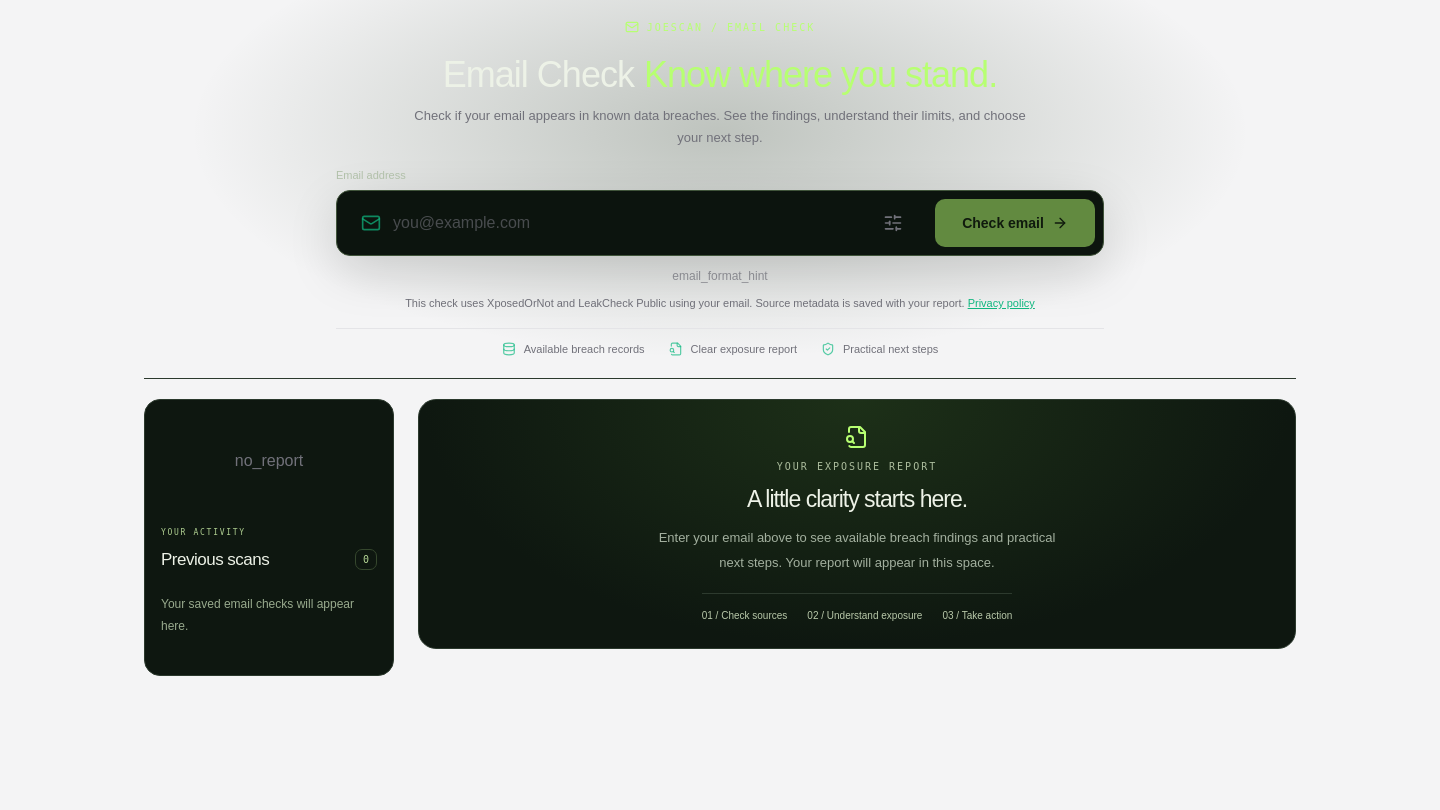
Test: EmailAnalyzer MX validation order › does NOT consume a scan attempt for an email whose domain has no MX records
Type "user@heloo.com" into the field with placeholder "you@example.com" at (634, 223), box [345,199,923,247]
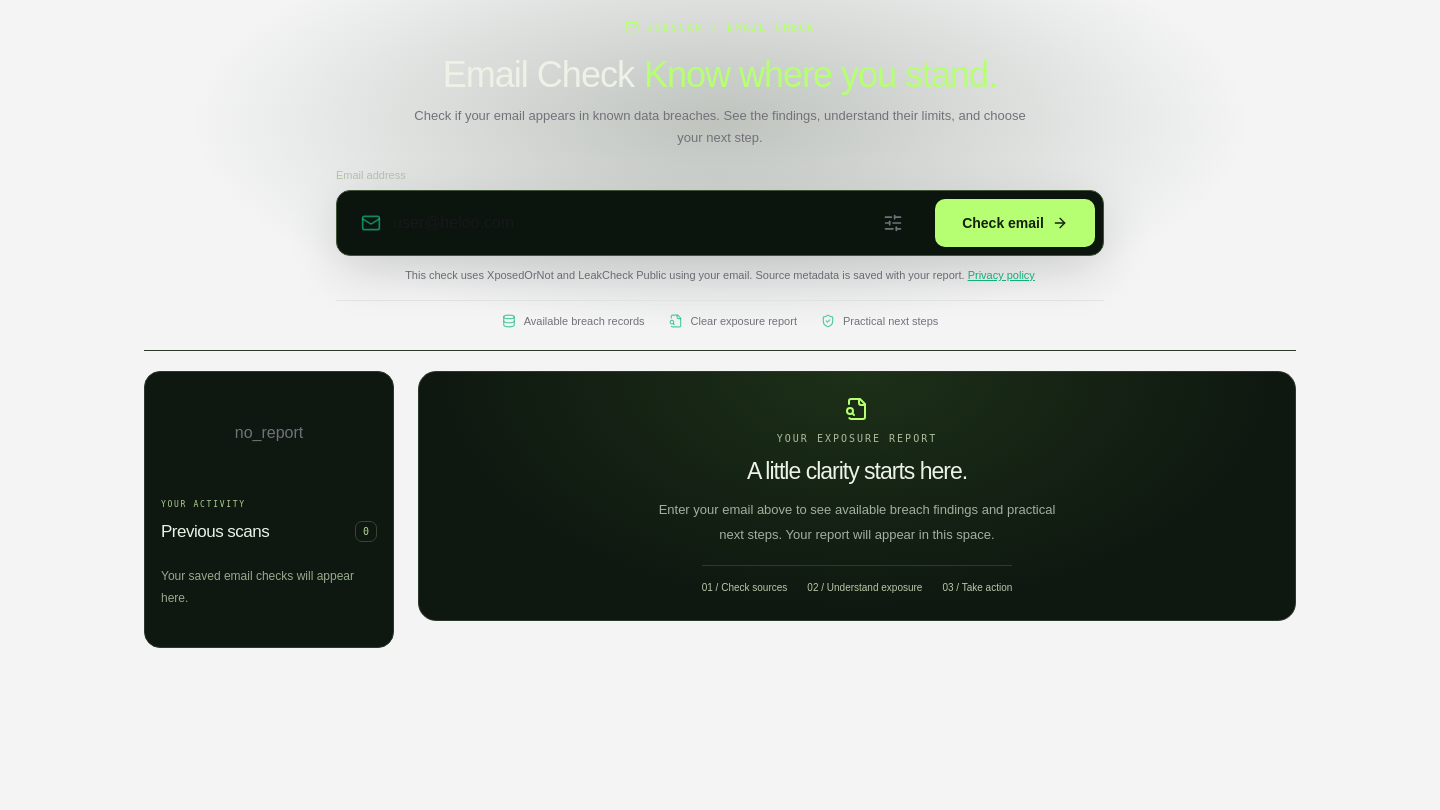
Click the button "Check email" at (1015, 223), box [935,199,1095,247]
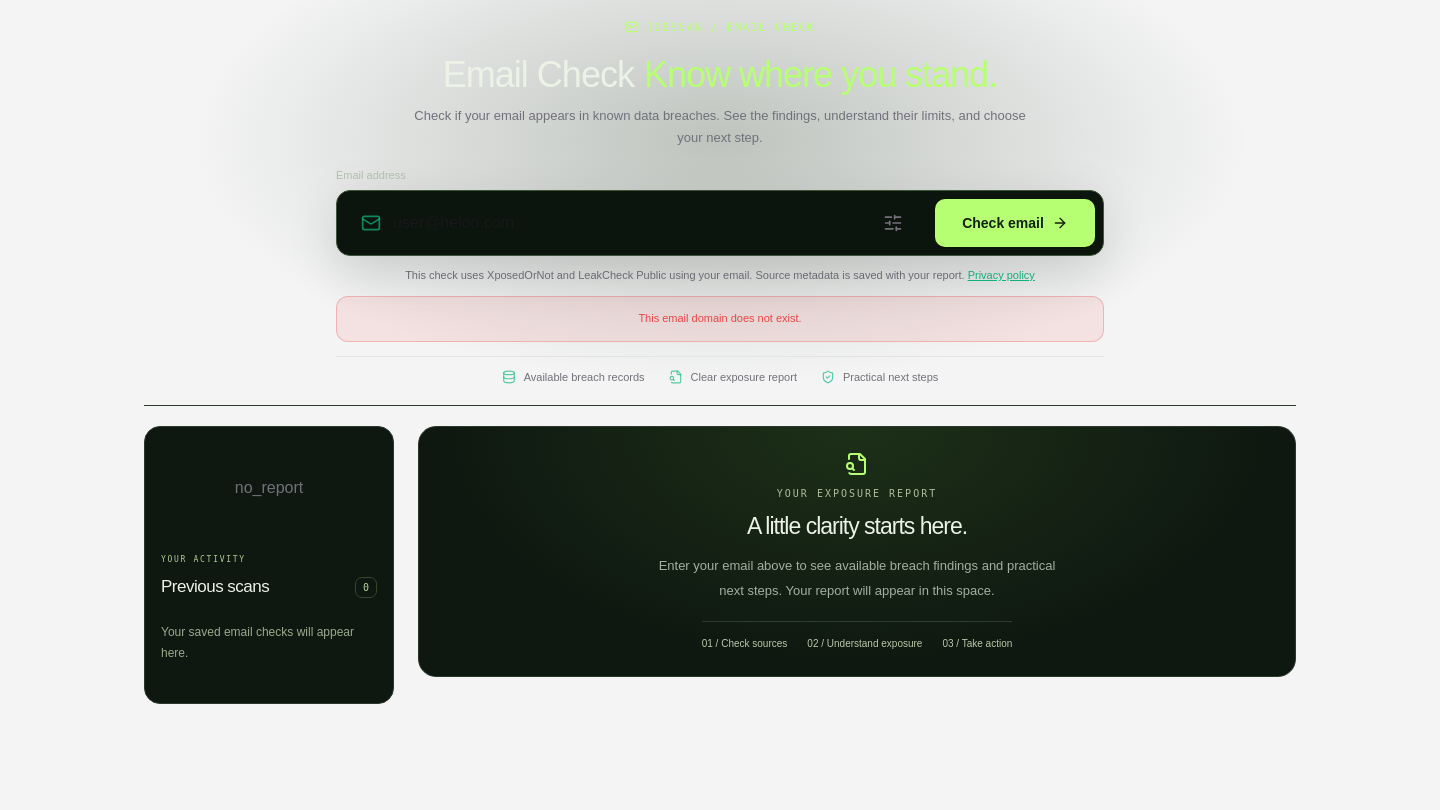
Expected: the message reads "This email domain does not exist.", [638,312,802,324]
